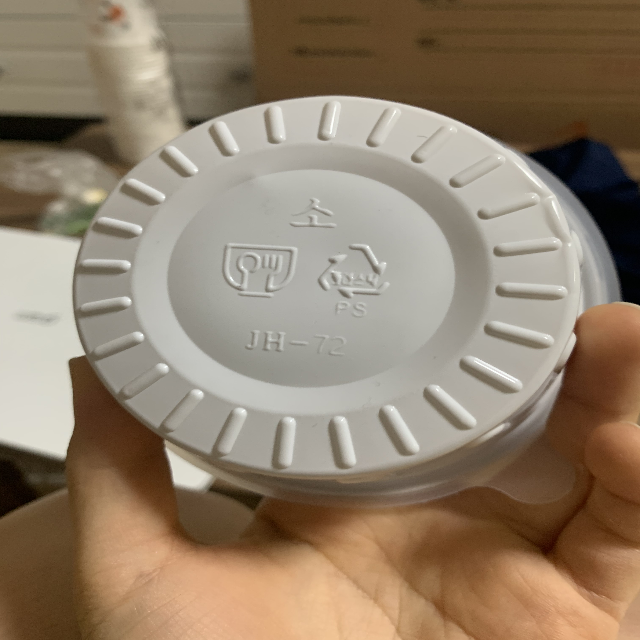ps: (317, 237, 391, 319)
